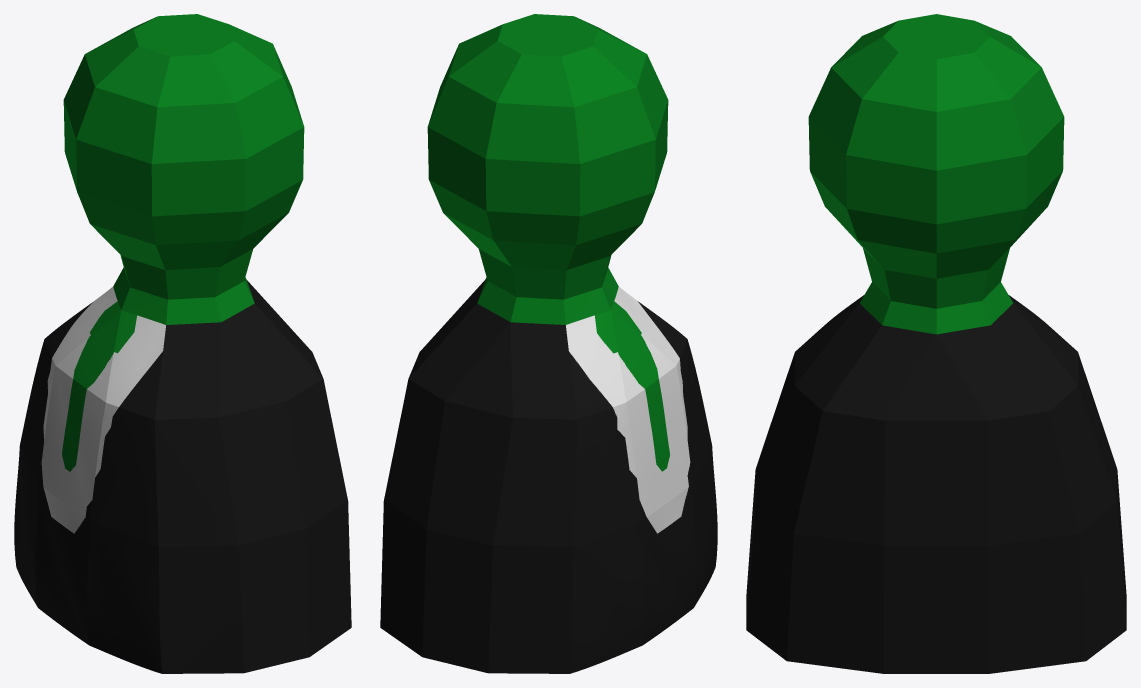
Rendered from gruene_figur.fbx.
3 views of the same model, side by side, from view 1: azimuth 30°, elevation 25°; view 2: azimuth 150°, elevation 25°; view 3: azimuth 270°, elevation 25° (orthographic). The views are drawn at different scales.
Parts seen in each view (by area): view 1: pawn_D_red; view 2: pawn_D_red; view 3: pawn_D_red.
Boxes of the visible parts, x1,y1,x2,y2 form: pawn_D_red: (14,14,351,673); pawn_D_red: (380,14,717,673); pawn_D_red: (746,14,1126,673).
Size of the model in its own units: 41.89 by 92.32 by 55.1.
